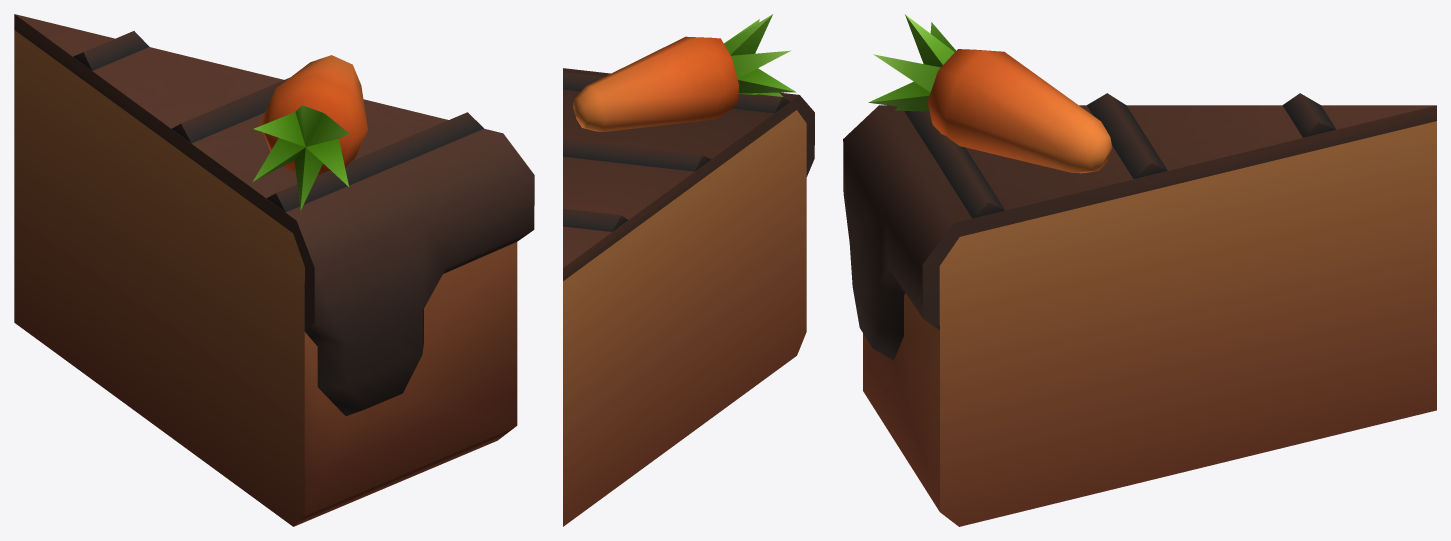
File: m_CarrotCake02_Slice02.fbx
The picture shows the model from 3 angles, left to right: view 1: azimuth 30°, elevation 25°; view 2: azimuth 150°, elevation 25°; view 3: azimuth 270°, elevation 25°; orthographic projection. The views are drawn at different scales.
Parts seen in each view (by area): view 1: m_CarrotCake02_Slice02; view 2: m_CarrotCake02_Slice02; view 3: m_CarrotCake02_Slice02.
Boxes of the visible parts, x1=… form: m_CarrotCake02_Slice02: x1=14, y1=14, x2=534, y2=526; m_CarrotCake02_Slice02: x1=563, y1=14, x2=814, y2=526; m_CarrotCake02_Slice02: x1=843, y1=14, x2=1436, y2=526.
Bounding box in the file's own units: 7.81 × 10.91 × 14.48.
